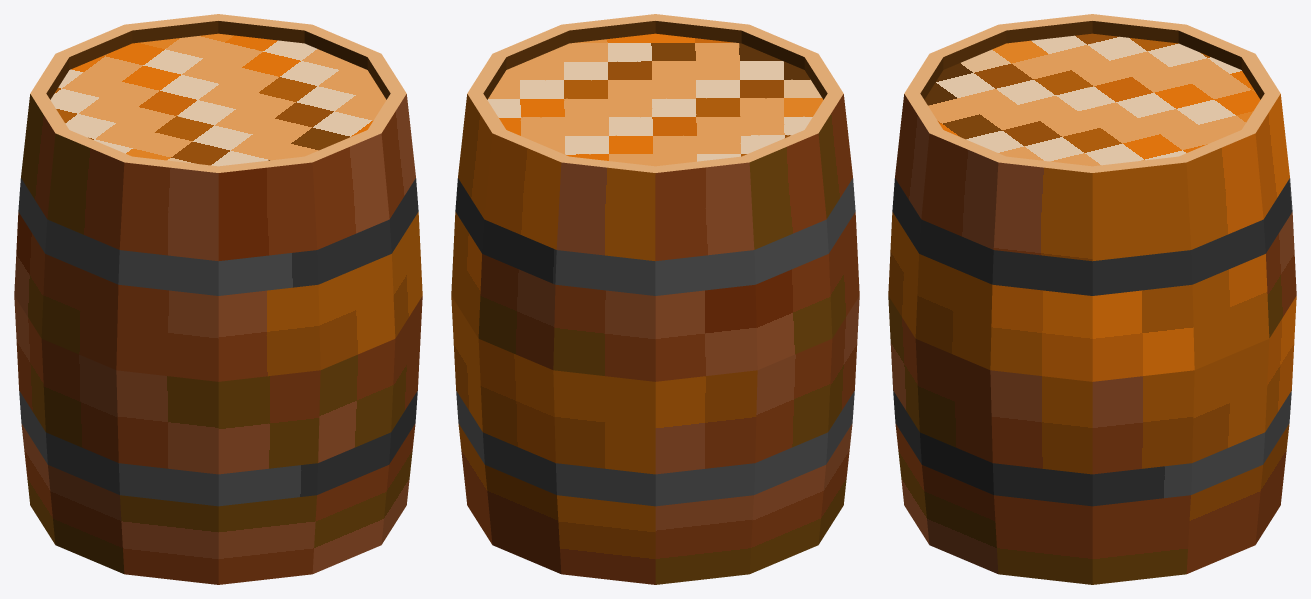
The model's file is barrel_819x00.gltf.
3 renders of one model, left to right at view 1: azimuth 30°, elevation 25°; view 2: azimuth 150°, elevation 25°; view 3: azimuth 270°, elevation 25°, orthographic.
Visible parts, largest first — view 1: barrel_819x00; view 2: barrel_819x00; view 3: barrel_819x00.
Part boxes in pixels (bbox=[...]): barrel_819x00: bbox=[14, 14, 422, 584]; barrel_819x00: bbox=[451, 14, 859, 584]; barrel_819x00: bbox=[888, 14, 1296, 584].
Size of the model in its own units: 0.882 by 0.9814 by 0.882.
Materials: 1 (1 with a texture image).
